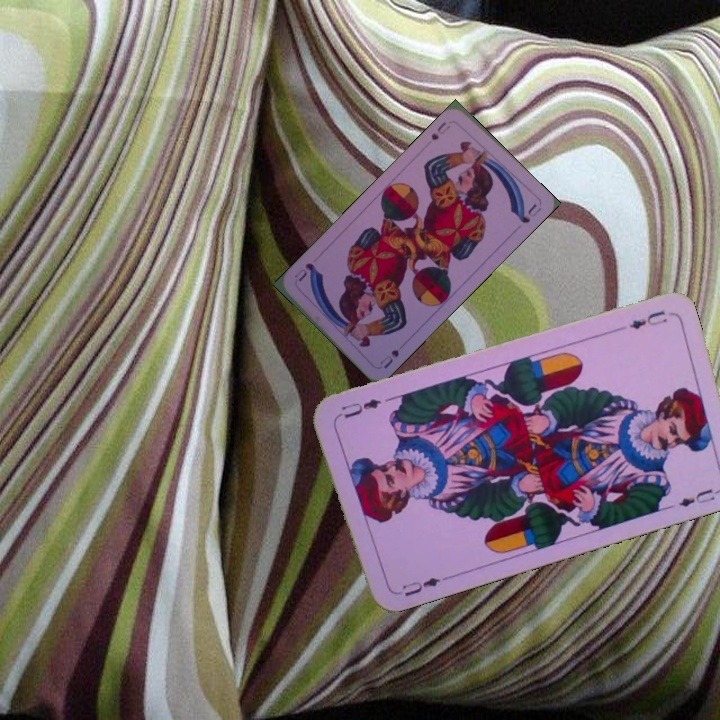EU: (390, 573, 449, 599), (625, 306, 670, 332)
SU: (376, 345, 401, 371), (427, 118, 449, 143)
